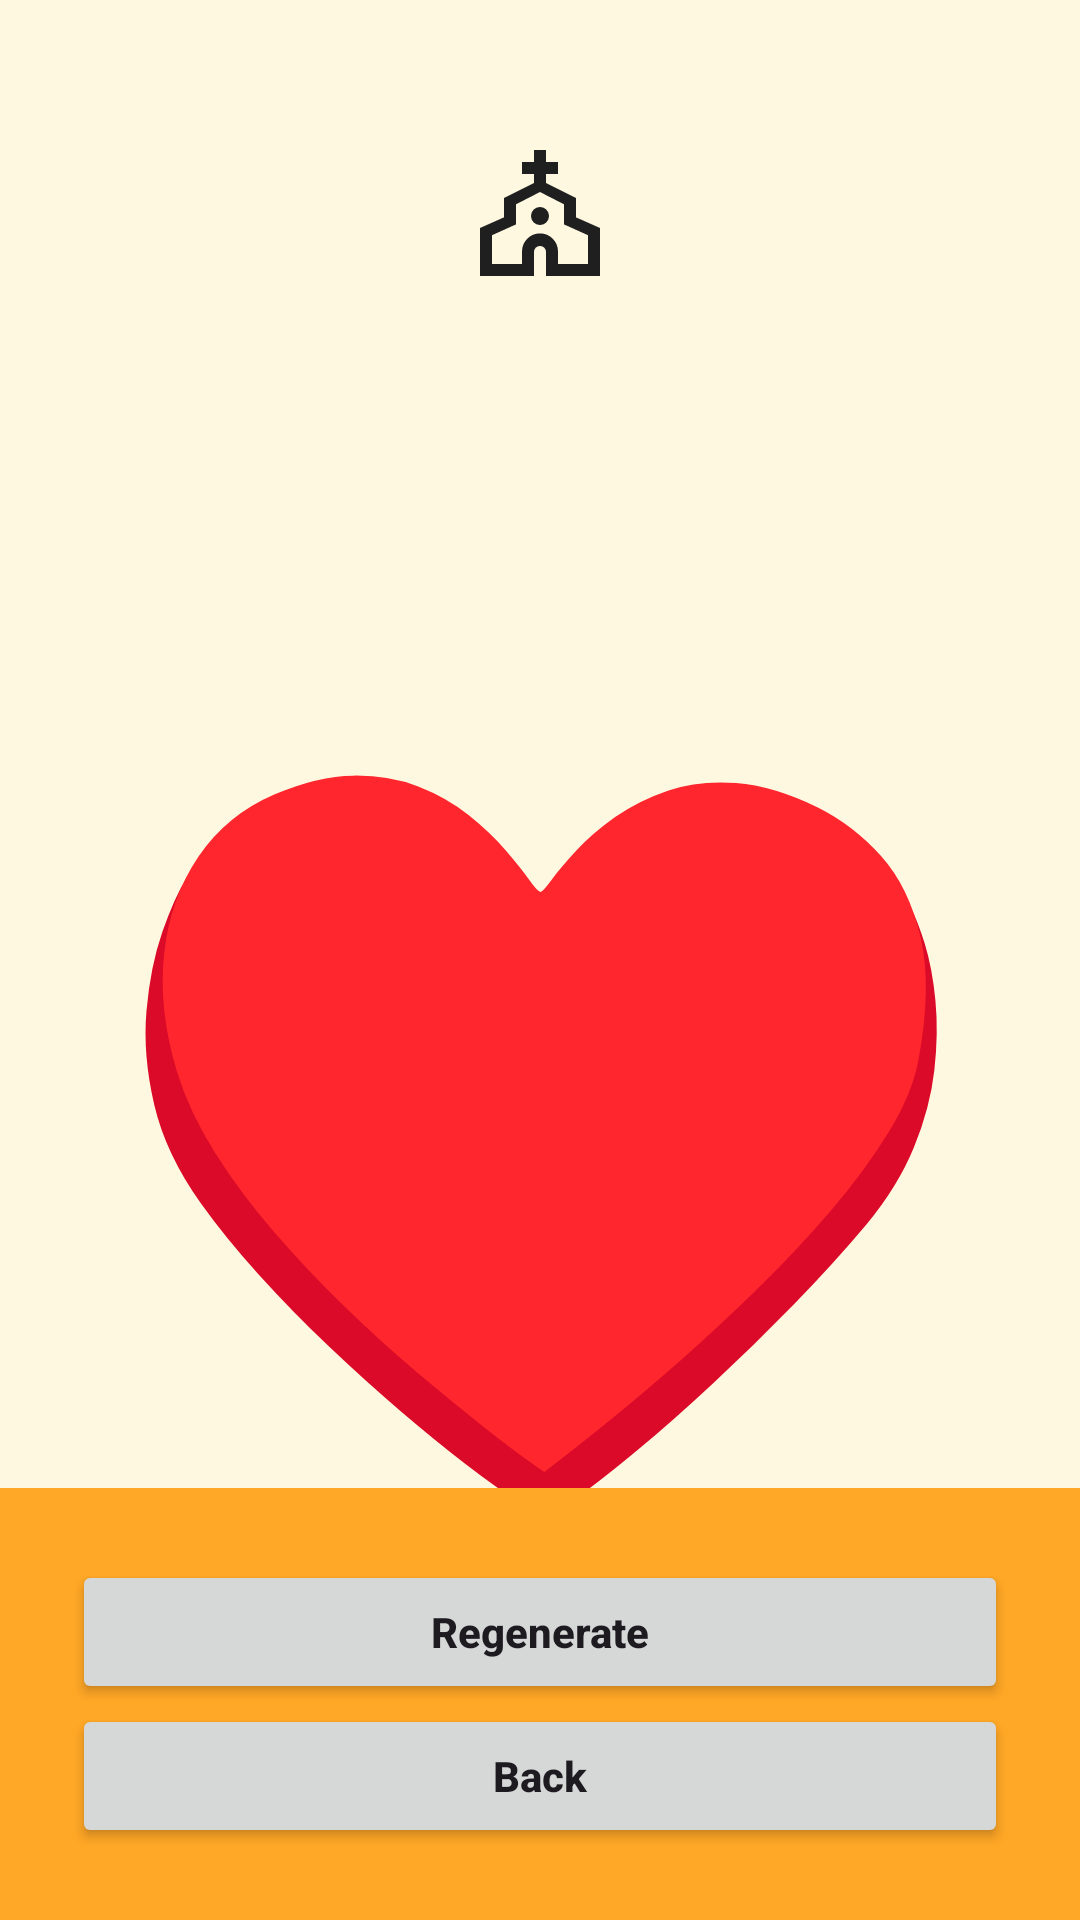

Point at icon controls on the screen. Image size 1080x1920, points as (x,y).
Cross icon: (540,213)
